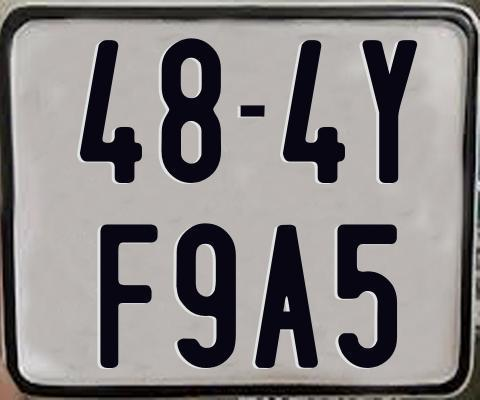4: (281, 38, 349, 185), (78, 38, 140, 185)
5: (337, 223, 399, 372)
8: (159, 37, 225, 183)
9: (175, 223, 241, 372)
A: (254, 223, 323, 369)
F: (99, 221, 157, 371)
Y: (362, 37, 417, 180)
